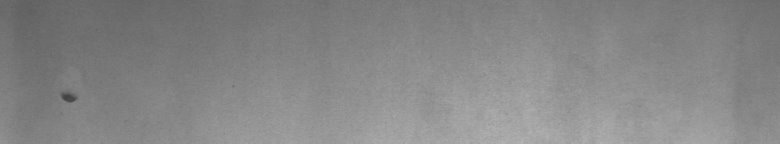fi: (57, 84, 80, 108)
